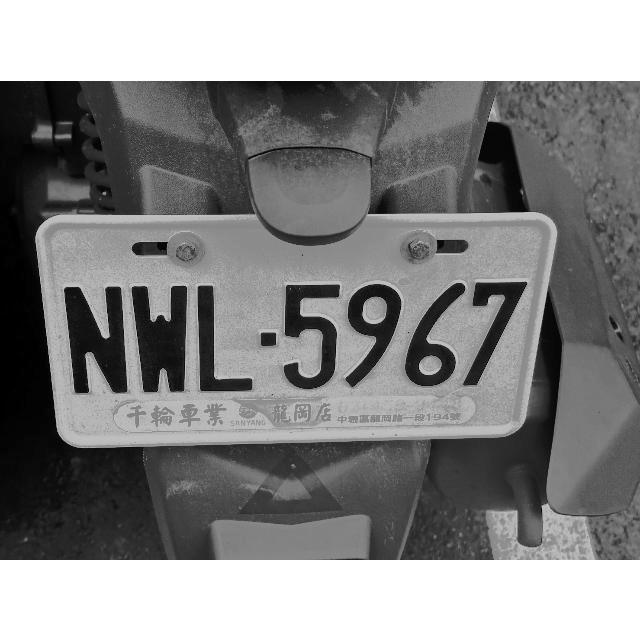-: (259, 325, 279, 353)
5: (281, 280, 343, 392)
6: (404, 278, 464, 387)
7: (465, 278, 529, 392)
9: (346, 280, 404, 392)
L: (195, 282, 255, 394)
N: (62, 283, 130, 395)
W: (130, 282, 192, 398)
